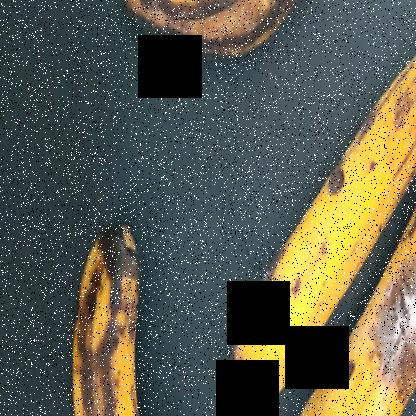overripe: (224, 42, 415, 410), (38, 199, 174, 415), (293, 184, 415, 415)
rotten: (108, 1, 314, 105)
